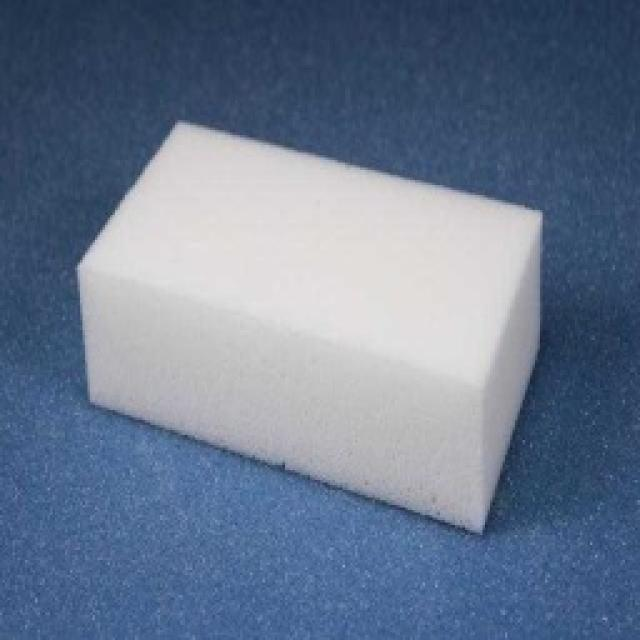Silgi: (76, 117, 544, 538)
